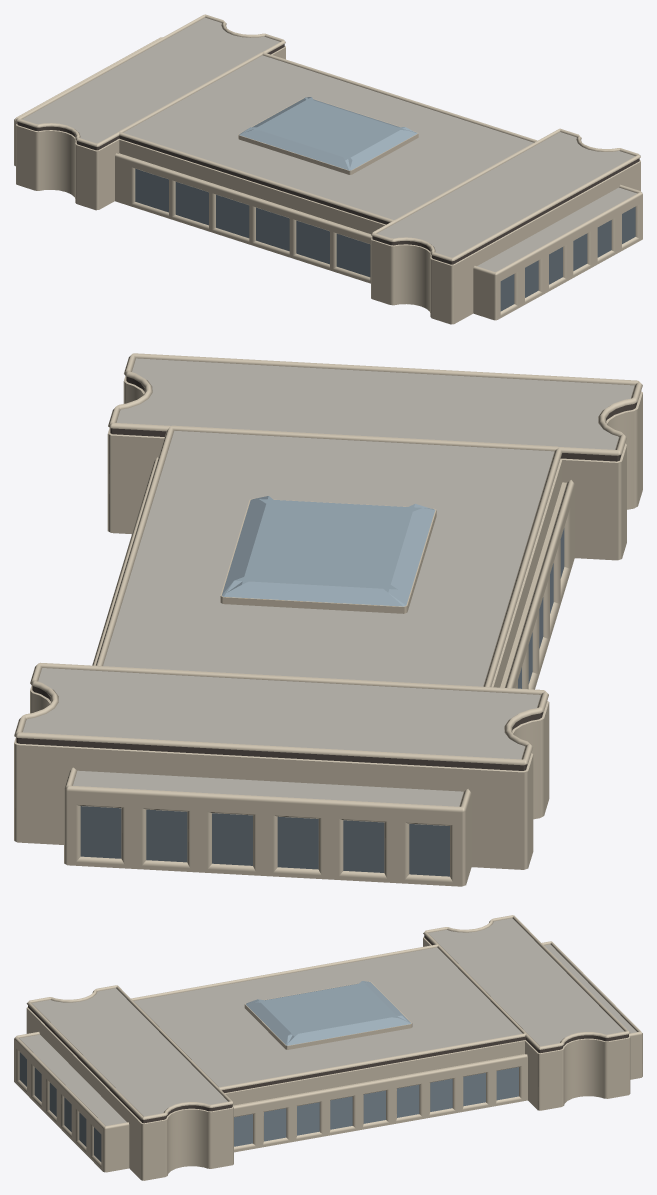
The picture shows the model from 3 angles, top to bottom: view 1: azimuth 30°, elevation 25°; view 2: azimuth 150°, elevation 25°; view 3: azimuth 270°, elevation 25°; orthographic projection. The views are drawn at different scales.
Visible parts, largest first — view 1: queens-museum; view 2: queens-museum; view 3: queens-museum.
Part boxes in pixels (x1,y1,x2,y2): queens-museum: (14,14,642,324); queens-museum: (14,353,642,886); queens-museum: (14,915,642,1180).
Bounding box in the file's own units: 105 × 17 × 138.
